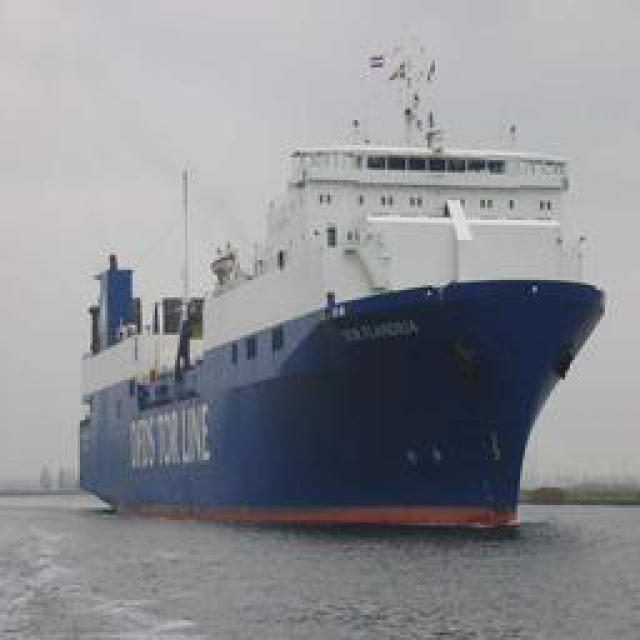Ship: (96, 86, 591, 539)
